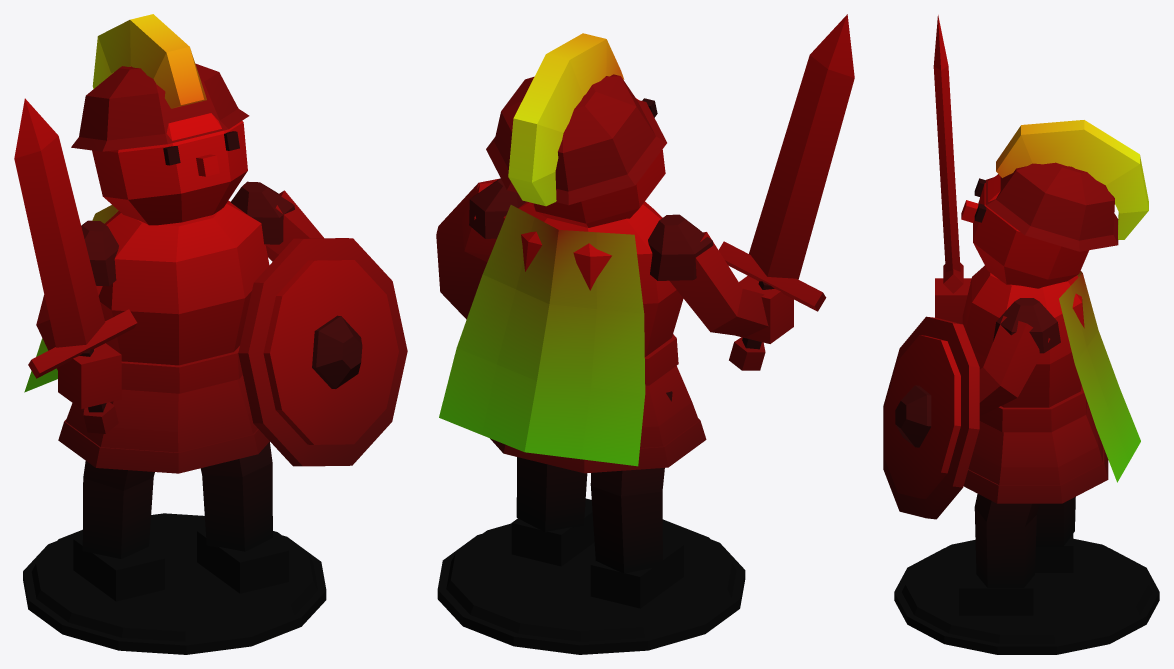
The model's file is ns-swordsman.glb.
3 renders of one model, left to right at view 1: azimuth 30°, elevation 25°; view 2: azimuth 150°, elevation 25°; view 3: azimuth 270°, elevation 25°, orthographic. The views are drawn at different scales.
Visible parts, largest first — view 1: Ringed form.002, Ringed form.001, Tapered form.008, Blade, Tapered form.007, Ringed form.005, Ringed form.006, Tapered form, Crest, Tapered form.001, Ringed form, Ringed form.003 (+12 smaller); view 2: Short cape, Ringed form.001, Blade, Ringed form.006, Crest, Ringed form.002, Tapered form.001, Ringed form, Tapered form.002, Tapered form, Tapered form.007, Cube.001 (+10 smaller); view 3: Ringed form.001, Ringed form.002, Ringed form.006, Tapered form.008, Crest, Short cape, Tapered form.007, Ringed form.005, Tapered form, Ringed form, Tapered form.006, Blade (+9 smaller).
Boxes of the visible parts, <box> form: Ringed form.002: <box>65,200,269,452</box>; Ringed form.001: <box>31,513,317,641</box>; Tapered form.008: <box>263,260,398,444</box>; Blade: <box>14,98,105,347</box>; Tapered form.007: <box>238,238,407,466</box>; Ringed form.005: <box>92,113,247,225</box>; Ringed form.006: <box>71,63,249,151</box>; Tapered form: <box>200,442,272,551</box>; Crest: <box>92,14,206,108</box>; Tapered form.001: <box>82,461,154,558</box>; Ringed form: <box>23,535,326,654</box>; Ringed form.003: <box>58,419,269,473</box>; Short cape: <box>439,205,645,466</box>; Ringed form.001: <box>446,519,736,641</box>; Blade: <box>749,14,854,279</box>; Ringed form.006: <box>486,74,666,205</box>; Crest: <box>508,33,624,206</box>; Ringed form.002: <box>503,201,698,447</box>; Tapered form.001: <box>590,391,672,573</box>; Ringed form: <box>437,534,745,654</box>; Tapered form.002: <box>669,232,768,336</box>; Tapered form: <box>516,457,587,532</box>; Tapered form.007: <box>436,178,499,319</box>; Cube.001: <box>590,540,683,608</box>; Ringed form.001: <box>902,538,1151,643</box>; Ringed form.002: <box>962,265,1102,485</box>; Ringed form.006: <box>986,162,1118,251</box>; Tapered form.008: <box>884,335,960,498</box>; Crest: <box>996,120,1148,239</box>; Short cape: <box>1059,270,1140,482</box>; Tapered form.007: <box>883,316,979,519</box>; Ringed form.005: <box>973,174,1088,288</box>; Tapered form: <box>974,494,1039,587</box>; Ringed form: <box>894,548,1159,654</box>; Tapered form.006: <box>979,316,1050,415</box>; Blade: <box>933,15,960,271</box>.
Size of the model in its own units: 0.798 by 1.1 by 0.552.
